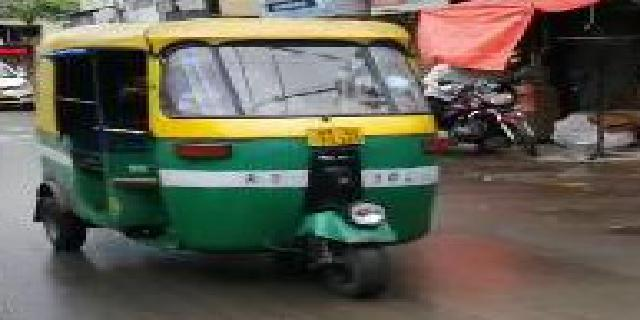Autorickshaw: (23, 14, 464, 293)
